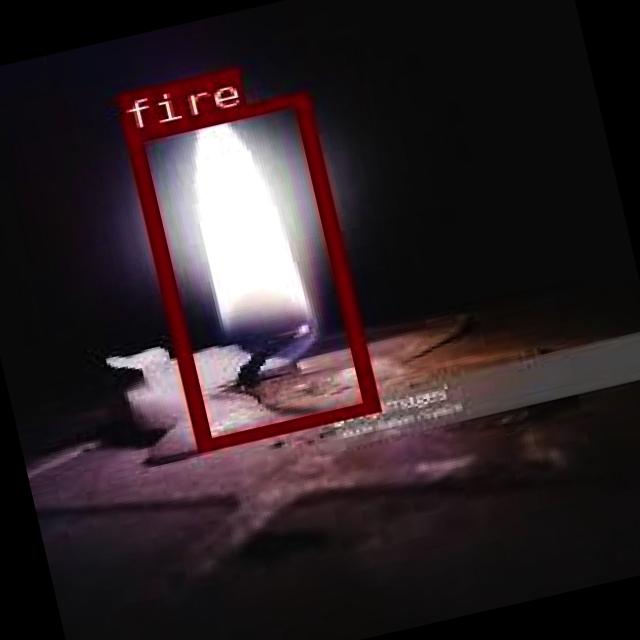fire: (122, 90, 376, 451)
